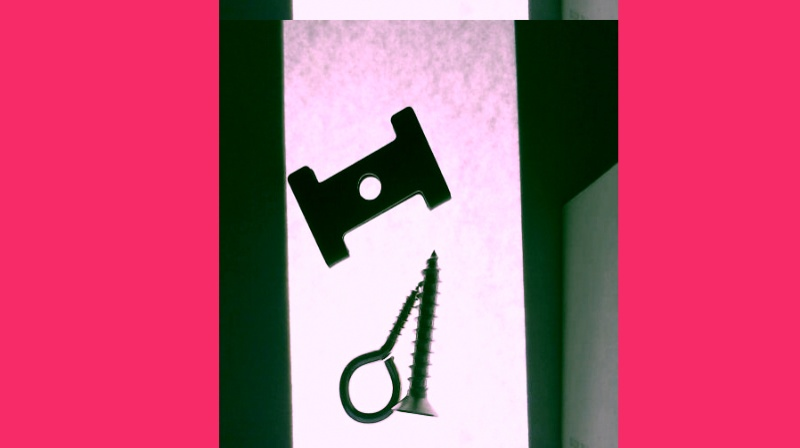O001: (338, 282, 419, 423)
O002: (288, 105, 451, 267)
S001: (391, 248, 440, 416)
